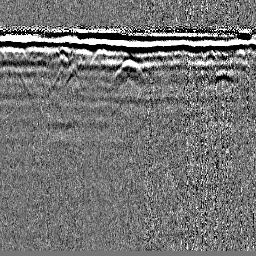cavity: (113, 58, 146, 81)
